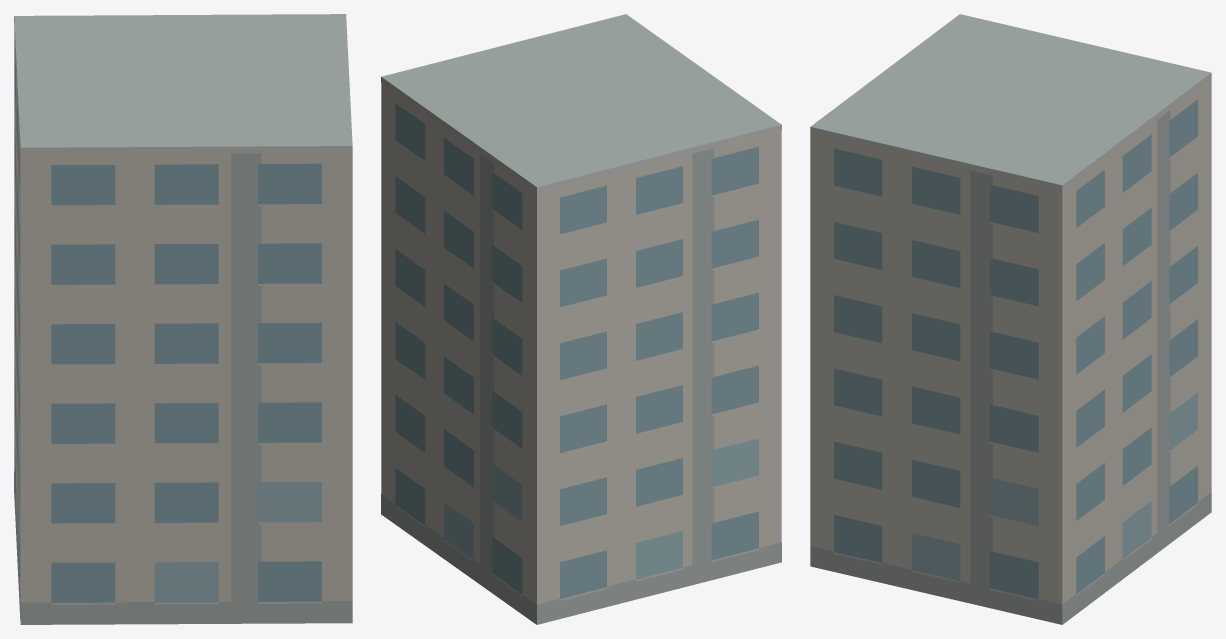
The model's file is survey-upis-33018414.glb.
3 renders of one model, left to right at view 1: azimuth 30°, elevation 25°; view 2: azimuth 150°, elevation 25°; view 3: azimuth 270°, elevation 25°, orthographic. The views are drawn at different scales.
Parts seen in each view (by area): view 1: survey-upis-33018414.tmp; view 2: survey-upis-33018414.tmp; view 3: survey-upis-33018414.tmp.
Boxes of the visible parts, x1,y1,x2,y2 form: survey-upis-33018414.tmp: (14, 14, 352, 624); survey-upis-33018414.tmp: (381, 14, 781, 624); survey-upis-33018414.tmp: (810, 14, 1211, 624).
Size of the model in its own units: 14.07 by 16.82 by 13.93.
